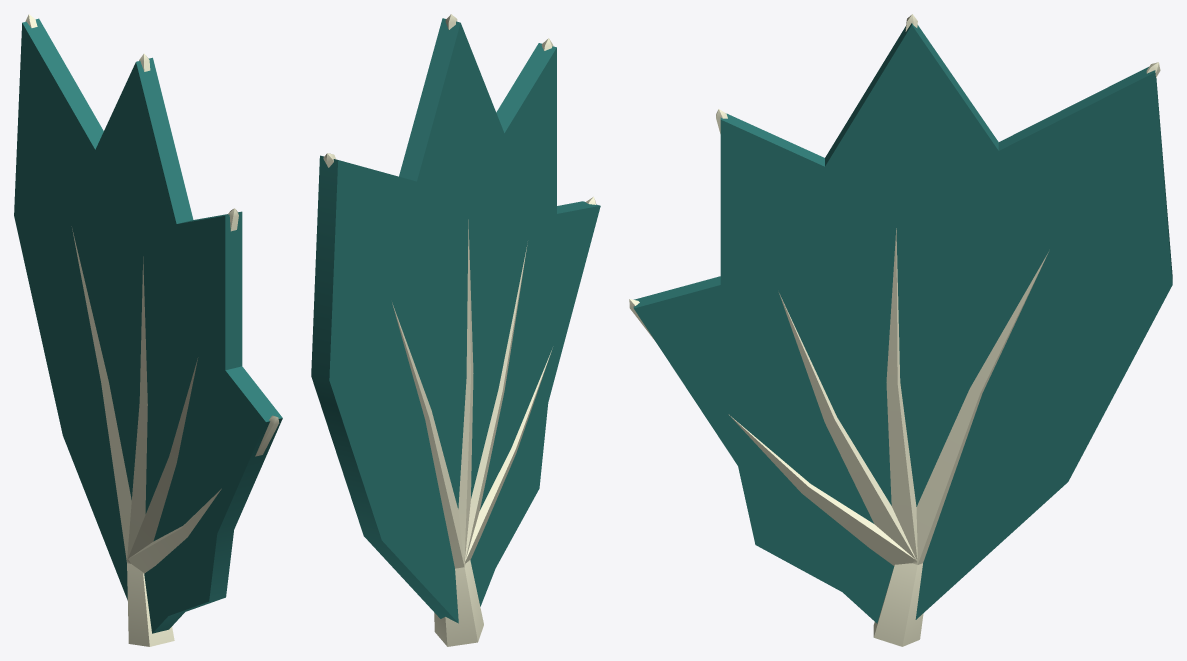
The model's file is wing_bat.glb.
3 views of the same model, side by side, from view 1: azimuth 30°, elevation 25°; view 2: azimuth 150°, elevation 25°; view 3: azimuth 270°, elevation 25° (orthographic). The views are drawn at different scales.
Parts seen in each view (by area): view 1: wing_bat; view 2: wing_bat; view 3: wing_bat.
Part boxes in pixels (<box>): wing_bat: <box>14,14,282,646</box>; wing_bat: <box>311,14,600,646</box>; wing_bat: <box>629,14,1172,646</box>.
Size of the model in its own units: 0.0571 by 0.7942 by 0.625.
